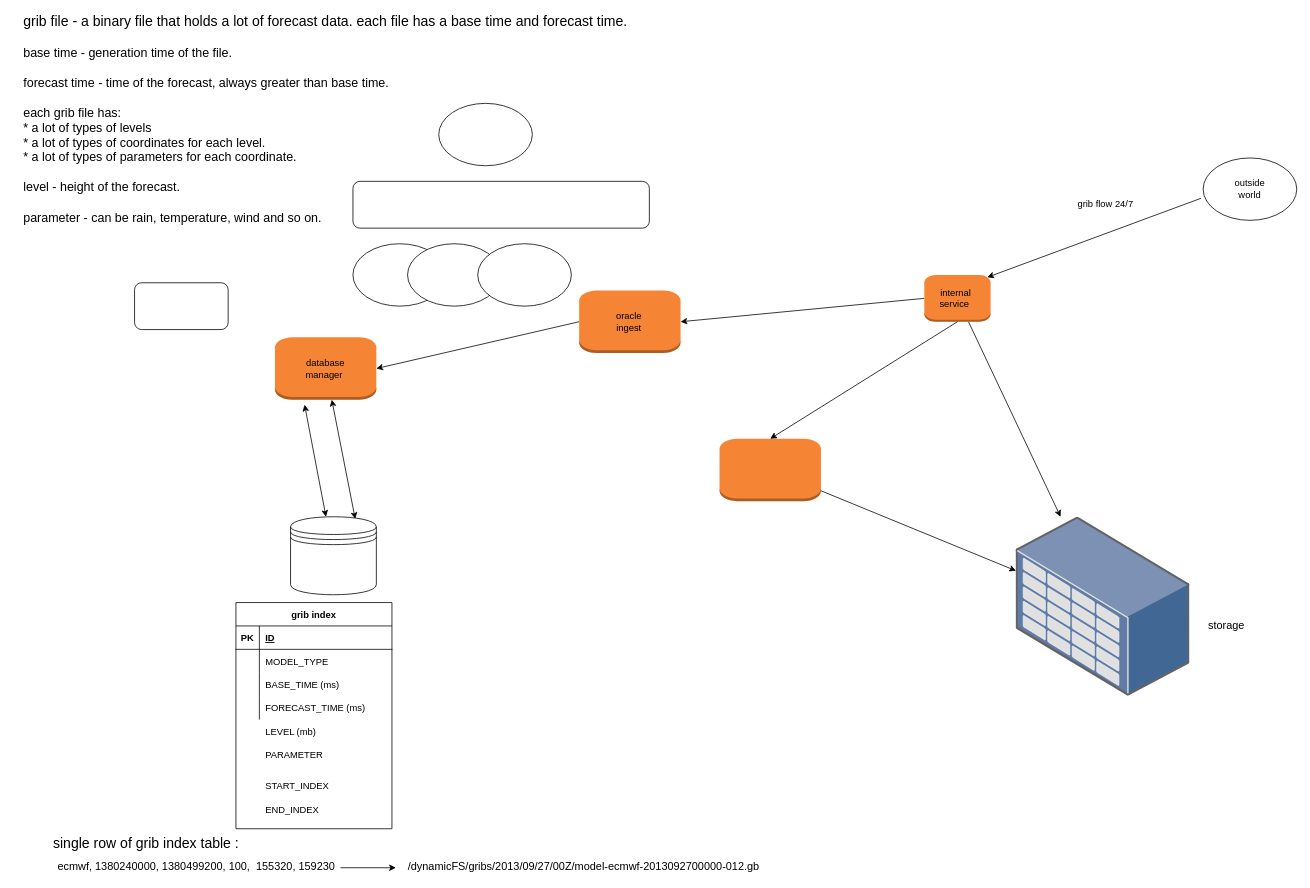
This 1310x888 diagram has some shape labels left out. Each missing label, with the centre of its shape:
IPSM meteostar LEADS: the point at 770,469
RDBMS: the point at 333,555
